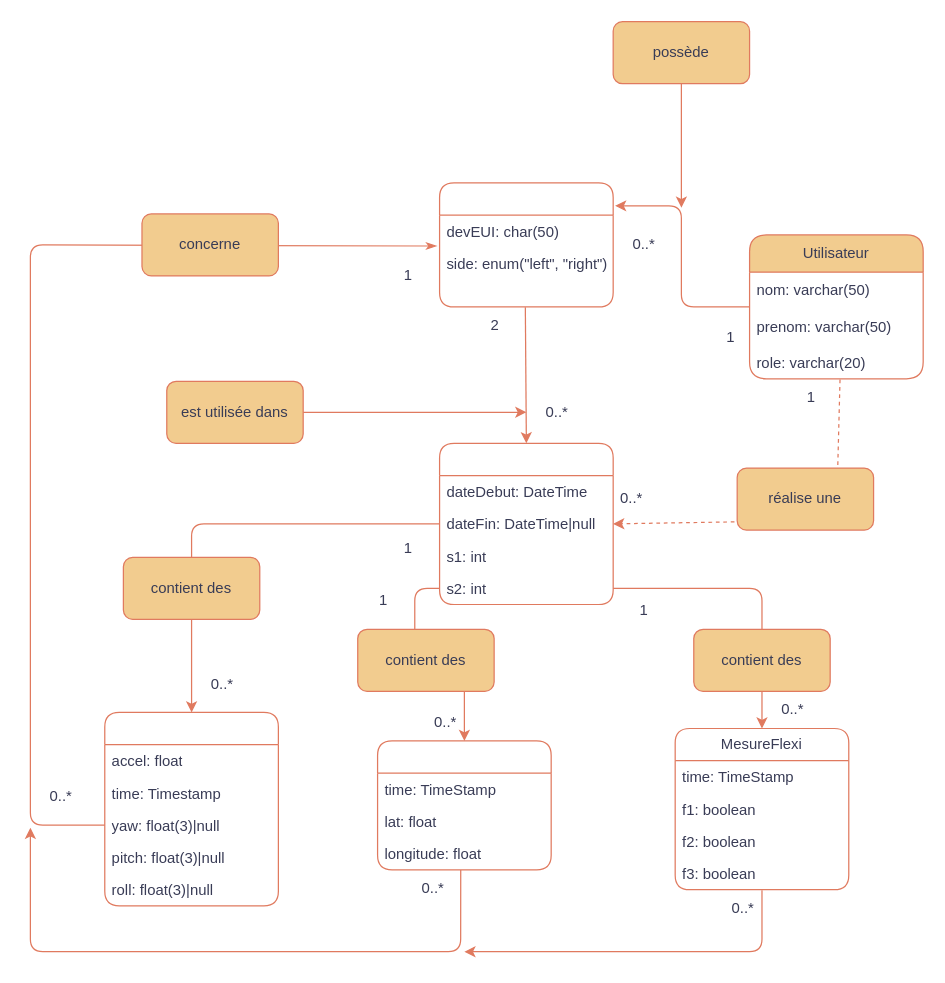
This 945x983 diagram has some shape labels left out. Each missing label, with the box of its shape:
MesureGPS: (376, 740, 551, 870)
MesureIMU: (104, 711, 278, 906)
Semelle: (438, 182, 613, 307)
Session: (438, 442, 613, 604)
